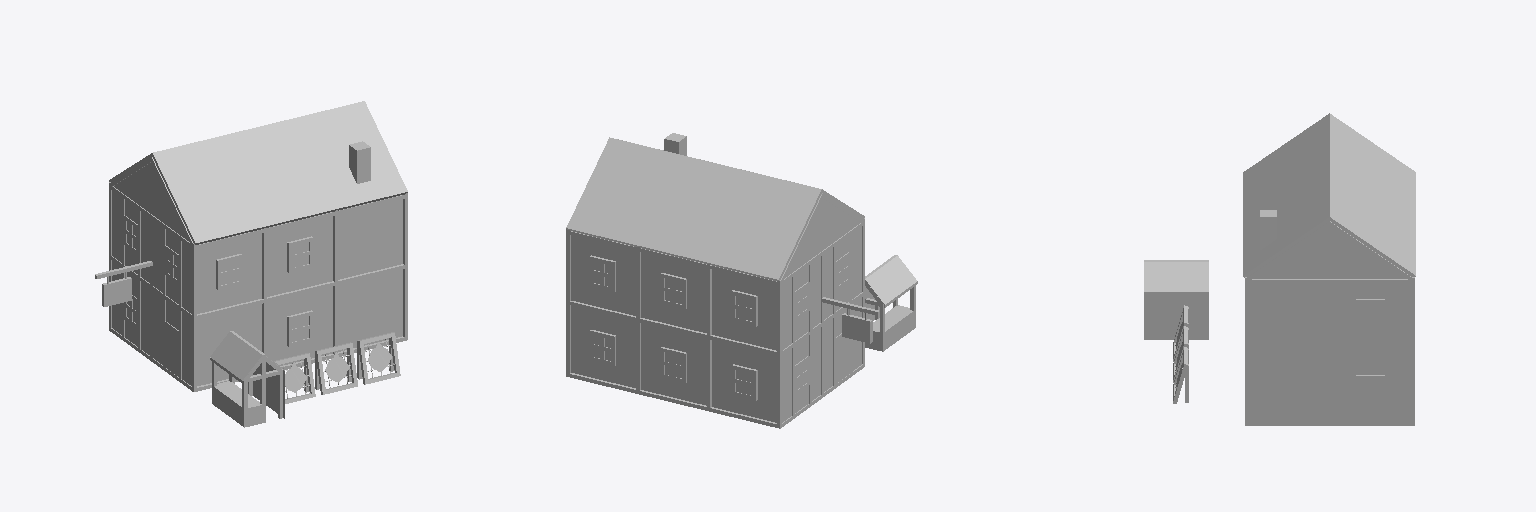
The model's file is timberframedtanner_white_blue.obj.
The picture shows the model from 3 angles: view 1: azimuth 30°, elevation 25°; view 2: azimuth 150°, elevation 25°; view 3: azimuth 270°, elevation 25°; orthographic projection.
Visible parts, largest first — view 1: Cube.005, Cube.007_Cube.011, Cylinder.001_Cylinder.008, Cylinder.003_Cylinder.001, Cylinder.004_Cylinder.009, Cube.011_Cube.015, Cube.018_Cube.016, Cube.056_Cube.081, Cube.001_Cube.058, Cube.013_Cube.080, Cube.006_Cube.010, Cube.026_Cube.019 (+7 smaller); view 2: Cube.005, Cube.007_Cube.011, Cube.023_Cube.026, Cube.022_Cube.025, Cube.021_Cube.024, Cube.015_Cube.020, Cube.019_Cube.022, Cube.017_Cube.021, Cube.014_Cube.018, Cube.008, Cube.020_Cube.023, Cube.073_Cube.078 (+6 smaller); view 3: Cube.005, Cube.007_Cube.011, Cube.147_Cube.153, Cube.003, Cube.033, Cube.027, Cube.047_Cube.049, Cube.016_Cube.013, Cube.031, Cube.006_Cube.010, Cube.032, Cylinder.001_Cylinder.008 (+5 smaller).
Part boxes in pixels (x1,y1,x2,y2): Cube.005: (112,162,402,385); Cube.007_Cube.011: (109,101,407,244); Cylinder.001_Cylinder.008: (357,332,400,384); Cylinder.003_Cylinder.001: (315,342,357,394); Cylinder.004_Cylinder.009: (274,353,315,403); Cube.011_Cube.015: (195,264,406,319); Cube.018_Cube.016: (195,195,406,249); Cube.056_Cube.081: (216,254,242,289); Cube.001_Cube.058: (287,310,312,346); Cube.013_Cube.080: (287,236,312,272); Cube.006_Cube.010: (349,141,370,183); Cube.026_Cube.019: (192,243,196,391); Cube.005: (571,199,861,422); Cube.007_Cube.011: (566,137,864,280); Cube.023_Cube.026: (567,373,779,427); Cube.022_Cube.025: (567,301,776,355); Cube.021_Cube.024: (567,231,777,284); Cube.015_Cube.020: (732,290,757,326); Cube.019_Cube.022: (661,347,686,383); Cube.017_Cube.021: (590,330,615,365); Cube.014_Cube.018: (661,273,686,308); Cube.008: (590,255,615,291); Cube.020_Cube.023: (732,364,757,400); Cube.073_Cube.078: (842,313,872,343); Cube.005: (1249,226,1409,421); Cube.007_Cube.011: (1243,113,1415,277); Cube.147_Cube.153: (1144,292,1208,339); Cube.003: (1356,380,1384,421); Cube.033: (1356,299,1384,329); Cube.027: (1410,277,1414,425); Cube.047_Cube.049: (1270,279,1274,423); Cube.016_Cube.013: (1248,350,1410,353); Cube.031: (1248,422,1410,425); Cube.006_Cube.010: (1260,210,1276,249); Cube.032: (1248,279,1410,282); Cylinder.001_Cylinder.008: (1173,347,1188,403).
Size of the model in its own units: 15.3 by 11.25 by 13.34.